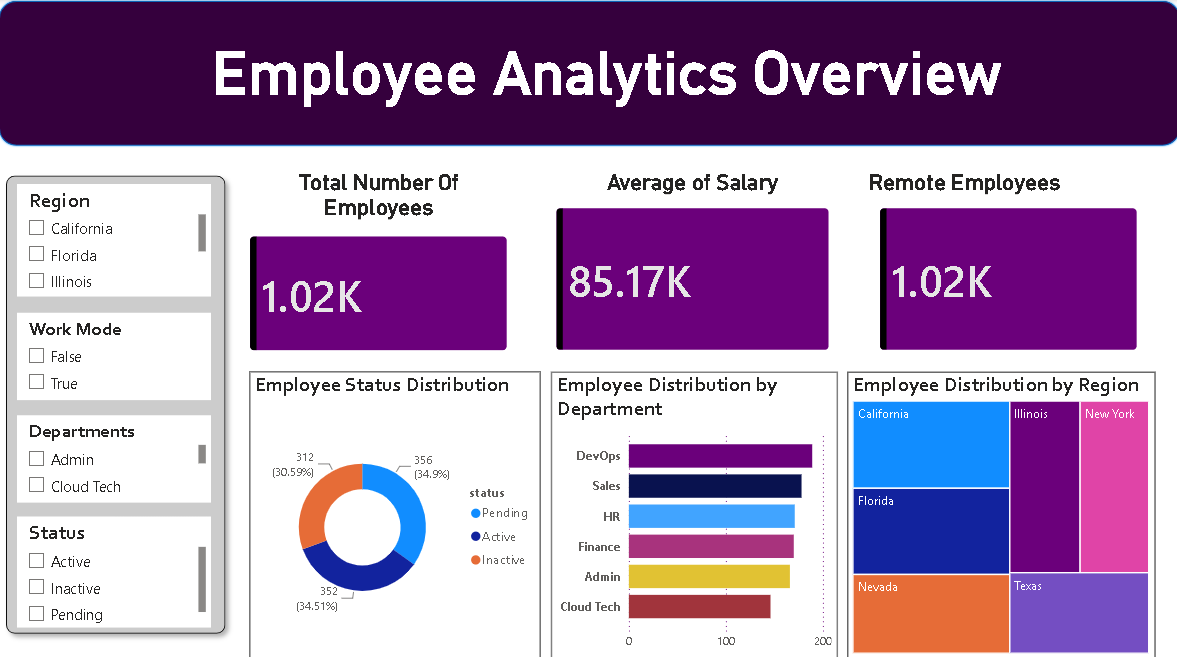

The page's visual inventory and layout, read from the dashboard file:
{"tool":"powerbi","page":{"name":"Page 1","canvas":[1280,720],"ordinal":0},"visuals":[{"type":"shape","box":[0,0,1280.3,160.5],"z":0},{"type":"textbox","box":[131.7,19.2,1053.9,141.3],"z":1000},{"type":"cardVisual","title":"Total Number Of Employees","fields":{"Data":["Count(public employee_details.employee_id)"]},"box":[256.6,183.7,313.3,213.4],"z":2000},{"type":"cardVisual","title":"Average of Salary","fields":{"Data":["Avg(public employee_details.salary)"]},"box":[587.5,183.7,328.2,213.4],"z":3000},{"type":"cardVisual","title":"Remote Employees","fields":{"Data":["CountNonNull(public employee_details.remote_work)"]},"box":[937.2,183.7,312,213.4],"z":4000},{"type":"slicer","fields":{"Values":["public employee_details.age_group"]},"box":[21.6,199.9,209.3,133.7],"z":5000},{"type":"shape","box":[0,181,256.6,514.5],"z":6000},{"type":"slicer","fields":{"Values":["public employee_details.region"]},"box":[21.6,199.9,209.3,121.5],"z":7000},{"type":"slicer","fields":{"Values":["public employee_details.remote_work"]},"box":[21.6,339,209.3,94.5],"z":8000},{"type":"slicer","fields":{"Values":["public employee_details.department"]},"box":[21.6,449.7,209.3,94.5],"z":9000},{"type":"slicer","fields":{"Values":["public employee_details.status"]},"box":[21.6,559.1,209.3,120.2],"z":10000},{"type":"donutChart","title":"Employee Status Distribution","fields":{"Category":["public employee_details.status"],"Y":["Count(public employee_details.employee_id)"]},"box":[272.8,402.4,314.7,312],"z":11000},{"type":"clusteredBarChart","title":"Employee Distribution by Department","fields":{"Category":["public employee_details.department"],"Y":["Count(public employee_details.employee_id)"]},"box":[598.3,402.4,310.6,312],"z":12000},{"type":"treemap","title":"Employee Distribution by Region","fields":{"Group":["public employee_details.region"],"Values":["CountNonNull(public employee_details.employee_id)"]},"box":[918.3,402.4,333.6,312],"z":13000}]}

Visuals, with their boxes in screenshot pixels (x1, y1, x2, y2), scaled from the page's 1280x720 canvas onto the 1177x657 screenshot:
shape: region(0, 0, 1176, 146)
textbox: region(121, 18, 1090, 146)
"Total Number Of Employees" cardVisual: region(236, 168, 524, 362)
"Average of Salary" cardVisual: region(540, 168, 842, 362)
"Remote Employees" cardVisual: region(862, 168, 1149, 362)
slicer - public employee_details.age_group: region(20, 182, 212, 304)
shape: region(0, 165, 236, 635)
slicer - public employee_details.region: region(20, 182, 212, 293)
slicer - public employee_details.remote_work: region(20, 309, 212, 396)
slicer - public employee_details.department: region(20, 410, 212, 497)
slicer - public employee_details.status: region(20, 510, 212, 620)
"Employee Status Distribution" donutChart: region(251, 367, 540, 652)
"Employee Distribution by Department" clusteredBarChart: region(550, 367, 836, 652)
"Employee Distribution by Region" treemap: region(844, 367, 1151, 652)
